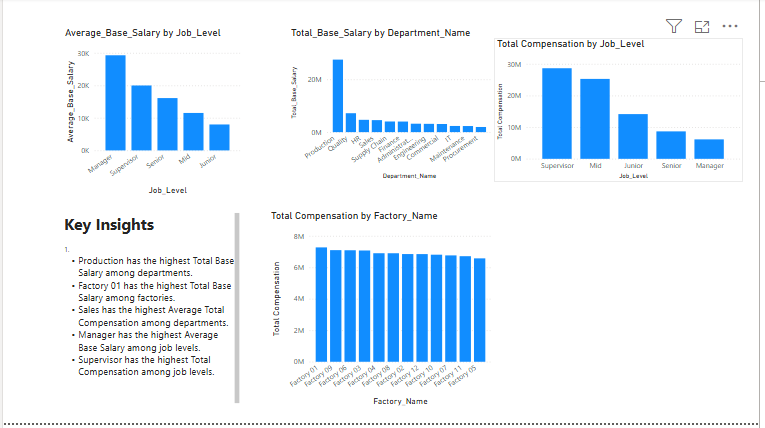

What the dashboard file says about the page in this screenshot:
{"tool":"powerbi","page":{"name":"salary analysis","canvas":[1280,720],"ordinal":1},"visuals":[{"type":"clusteredColumnChart","fields":{"Category":["Jobs.Job_Level"],"Y":["Compensation.Average_Base_Salary"]},"box":[99.1,48.7,307.4,288.9],"z":0},{"type":"clusteredColumnChart","fields":{"Category":["Department.Department_Name"],"Y":["Compensation.Total_Base_Salary"]},"box":[482.1,48.7,349.4,262],"z":1000},{"type":"clusteredColumnChart","fields":{"Category":["Jobs.Job_Level"],"Y":["Compensation.Total Compensation"]},"box":[831.5,67.2,421.6,243.6],"z":2000},{"type":"clusteredColumnChart","fields":{"Category":["Factory.Factory_Name"],"Y":["Compensation.Total Compensation"]},"box":[448.5,359.5,383,336],"z":3000},{"type":"textbox","box":[99,359,307,336],"z":4000}]}

Visuals, with their boxes in screenshot pixels (x1, y1, x2, y2), scaled from the page's 1280x720 canvas onto the 765x428 screenshot:
clusteredColumnChart - Jobs.Job_Level x Compensation.Average_Base_Salary: (59,29,243,201)
clusteredColumnChart - Department.Department_Name x Compensation.Total_Base_Salary: (288,29,497,185)
clusteredColumnChart - Jobs.Job_Level x Compensation.Total Compensation: (497,40,749,185)
clusteredColumnChart - Factory.Factory_Name x Compensation.Total Compensation: (268,214,497,413)
textbox: (59,213,243,413)
